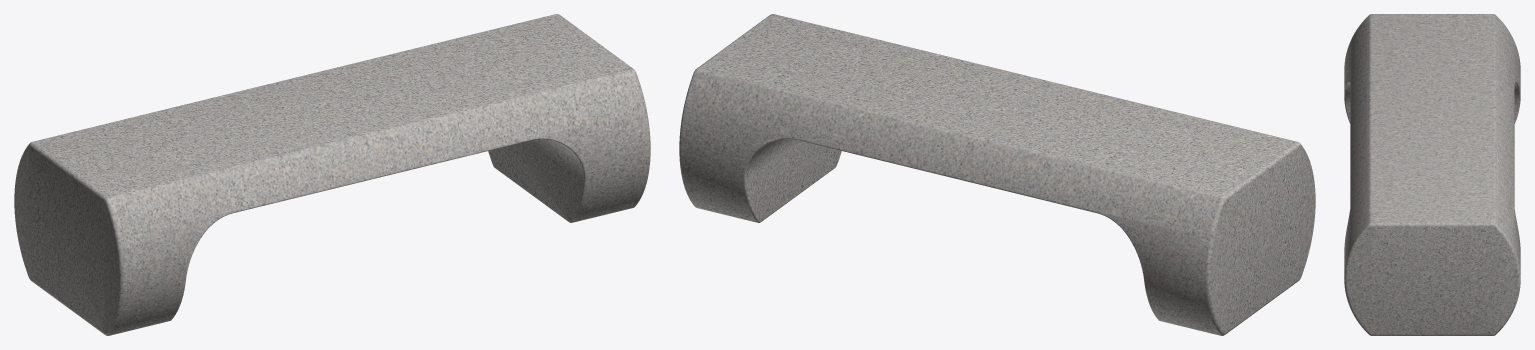
The model's file is granite_bench.glb.
The picture shows the model from 3 angles, left to right: view 1: azimuth 30°, elevation 25°; view 2: azimuth 150°, elevation 25°; view 3: azimuth 270°, elevation 25°; orthographic projection. The views are drawn at different scales.
Visible parts, largest first — view 1: Circle.003; view 2: Circle.003; view 3: Circle.003.
Part boxes in pixels (left/top/right/bottom): Circle.003: left=14, top=14, right=650, bottom=335; Circle.003: left=679, top=14, right=1315, bottom=335; Circle.003: left=1344, top=14, right=1520, bottom=335.
Bounding box in the file's own units: 1.49 × 0.3735 × 0.5282.
Materials: 1 (1 with a texture image).
